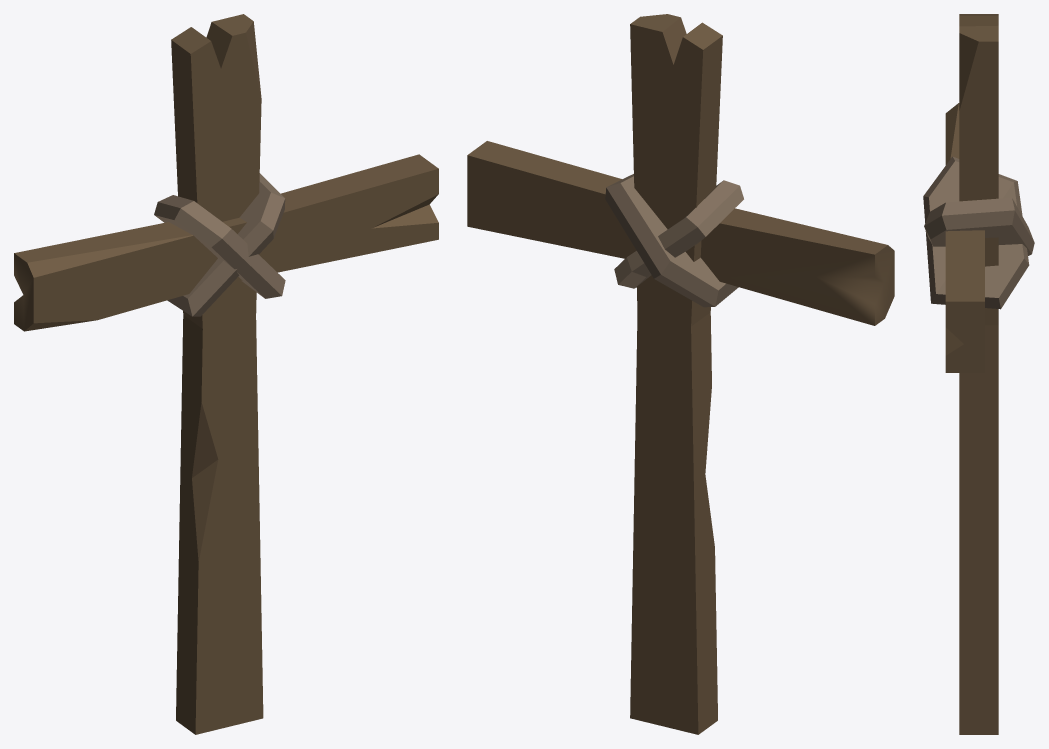
The model's file is prop_battle_cross.gltf.
The picture shows the model from 3 angles, left to right: view 1: azimuth 30°, elevation 25°; view 2: azimuth 150°, elevation 25°; view 3: azimuth 270°, elevation 25°; orthographic projection.
Parts seen in each view (by area): view 1: prop_battle_cross; view 2: prop_battle_cross; view 3: prop_battle_cross.
Part boxes in pixels (x1,y1,x2,y2): prop_battle_cross: (14,14,438,734); prop_battle_cross: (467,14,894,734); prop_battle_cross: (923,14,1034,734).
Bounding box in the file's own units: 0.637 × 1.04 × 0.1512.
1 material, 1 textured.
